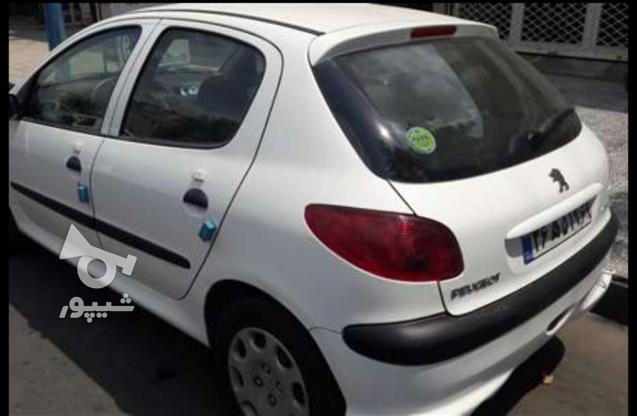car: (515, 194, 596, 265)
